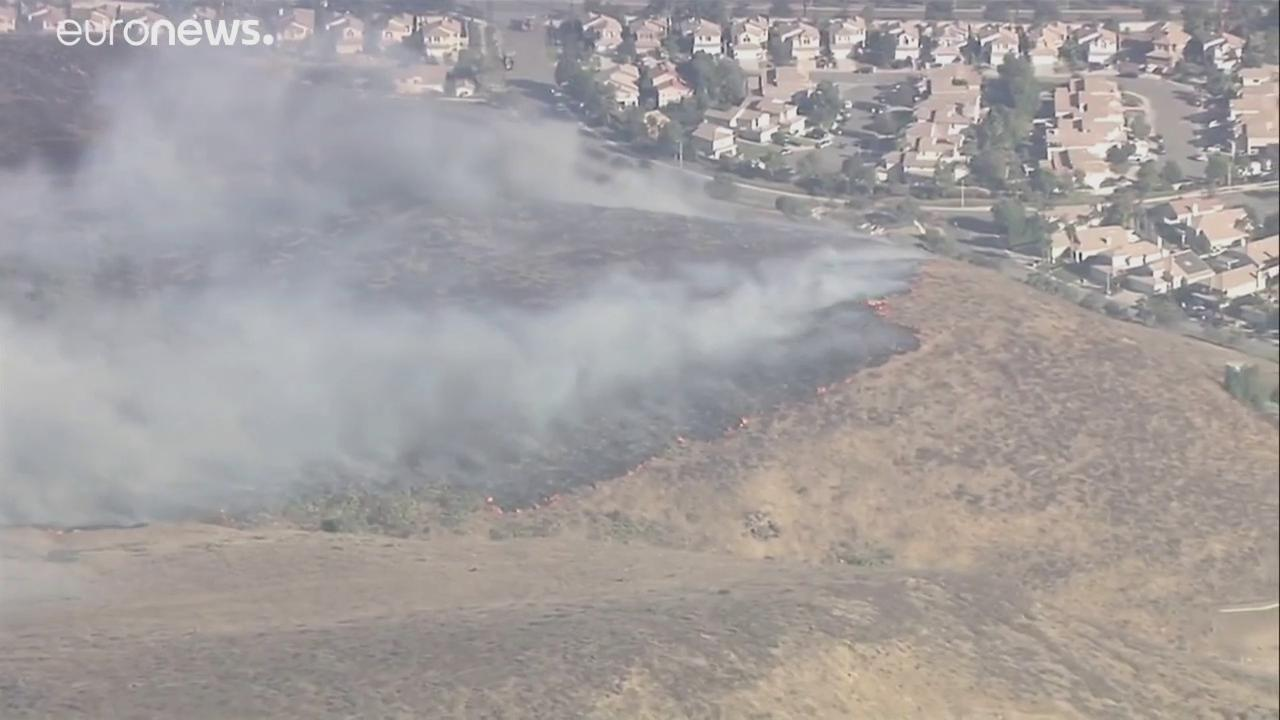fire: (864, 295, 889, 315)
